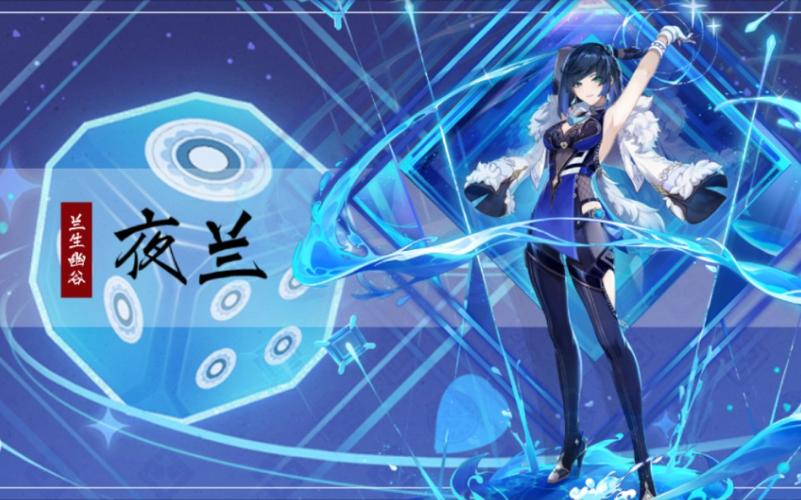夜兰: (517, 22, 697, 500)
